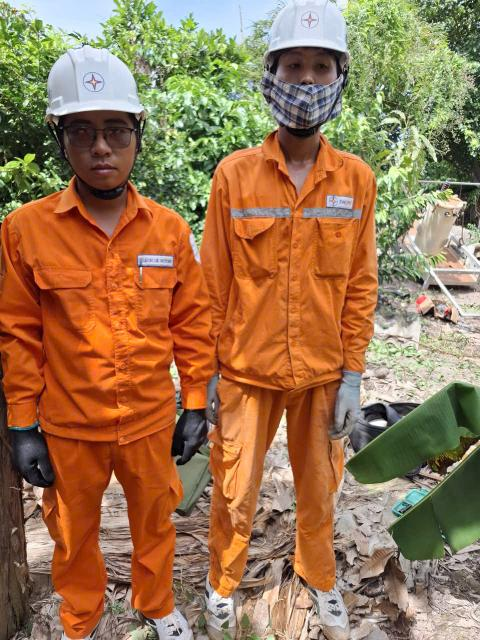gloves: (0, 415, 61, 494), (331, 358, 372, 450), (168, 393, 212, 478), (206, 367, 239, 433)
helmet: (44, 42, 149, 130), (243, 0, 372, 70)
shoes: (292, 551, 374, 640), (115, 584, 198, 640), (35, 598, 110, 640), (211, 567, 248, 640)
